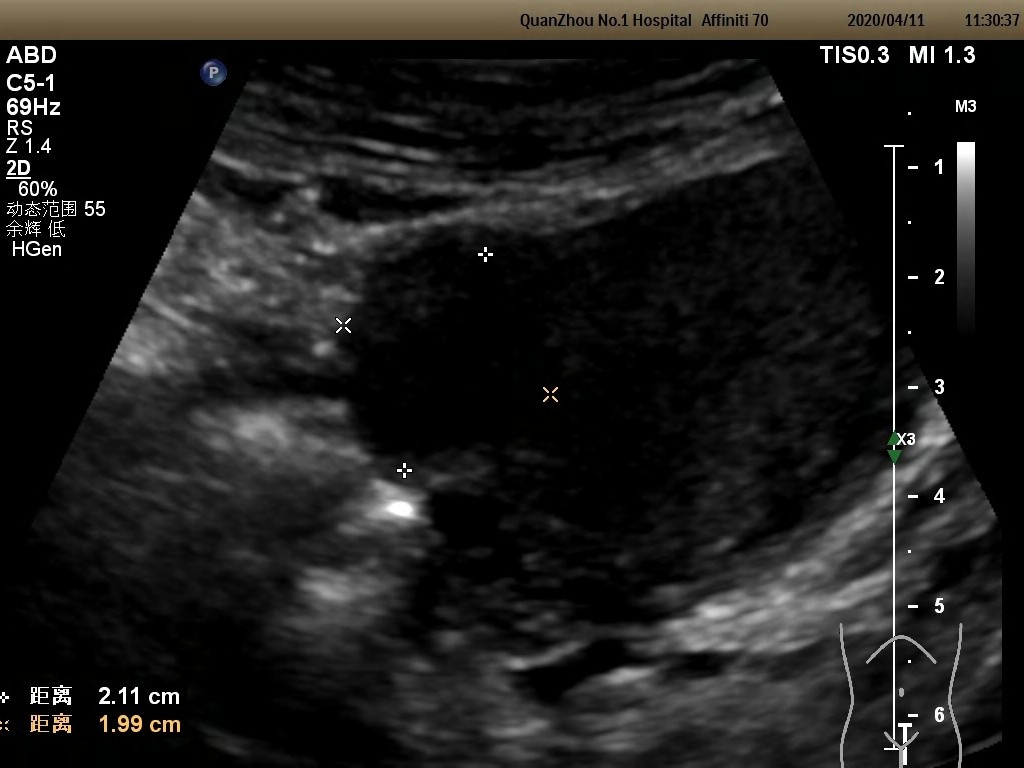肌瘤: (347, 256, 555, 471)
